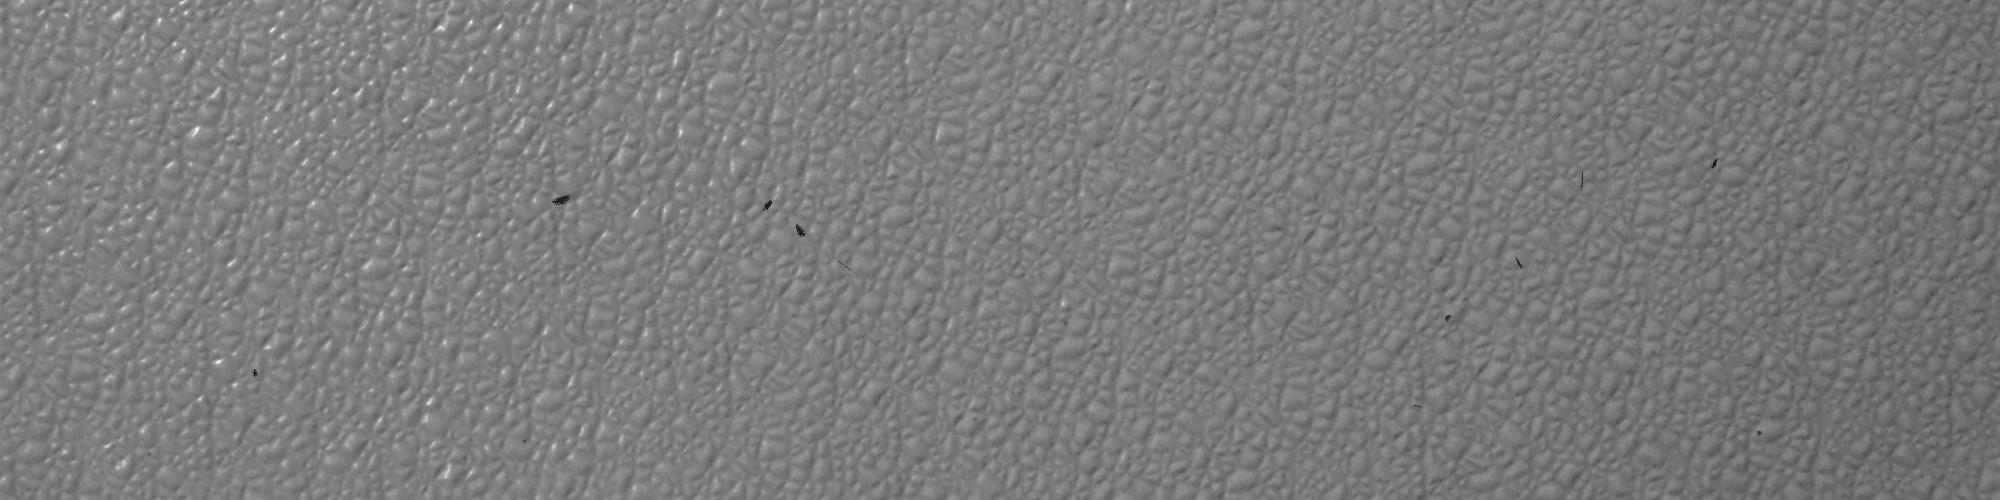Decomposed: (830, 256, 862, 286), (790, 216, 815, 250), (1568, 166, 1593, 195), (545, 185, 579, 207), (1508, 250, 1534, 277), (753, 194, 781, 210), (1437, 312, 1460, 329), (239, 362, 268, 374)
